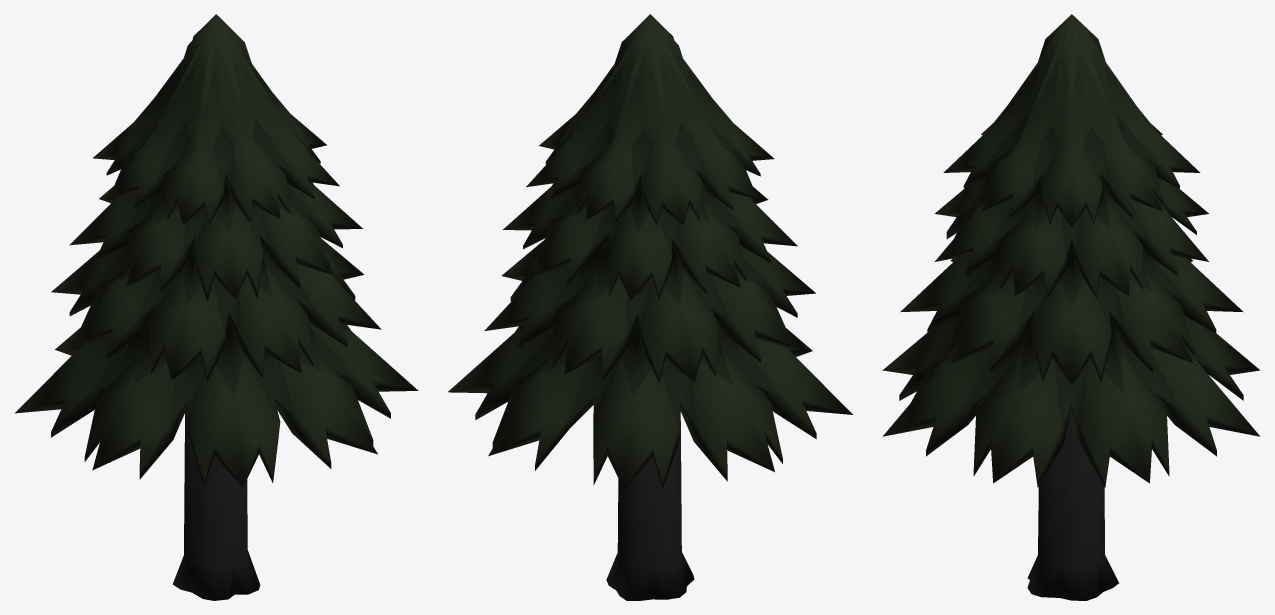
File: Simple_Trees_S.fbx
The picture shows the model from 3 angles, left to right: view 1: azimuth 30°, elevation 25°; view 2: azimuth 150°, elevation 25°; view 3: azimuth 270°, elevation 25°; orthographic projection.
Visible parts, largest first — view 1: Simple_Trees_S; view 2: Simple_Trees_S; view 3: Simple_Trees_S.
Boxes of the visible parts, x1,y1,x2,y2 form: Simple_Trees_S: [15, 14, 418, 600]; Simple_Trees_S: [448, 14, 852, 600]; Simple_Trees_S: [882, 14, 1260, 600].
Bounding box in the file's own units: 0.9997 × 1.66 × 0.9991.
1 material, 1 textured.
